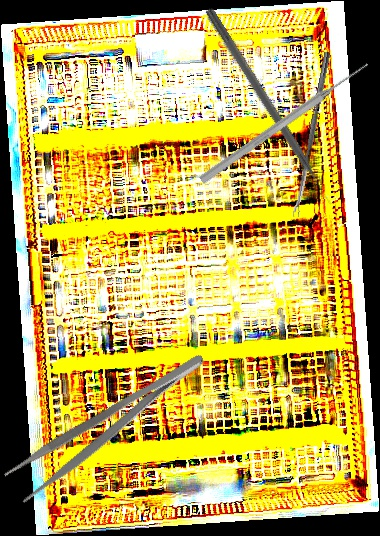Dressing Forceps: (1, 349, 219, 505)
Pusher: (201, 6, 336, 209), (197, 58, 372, 187)
Surgical Spoon: (291, 51, 331, 218)
